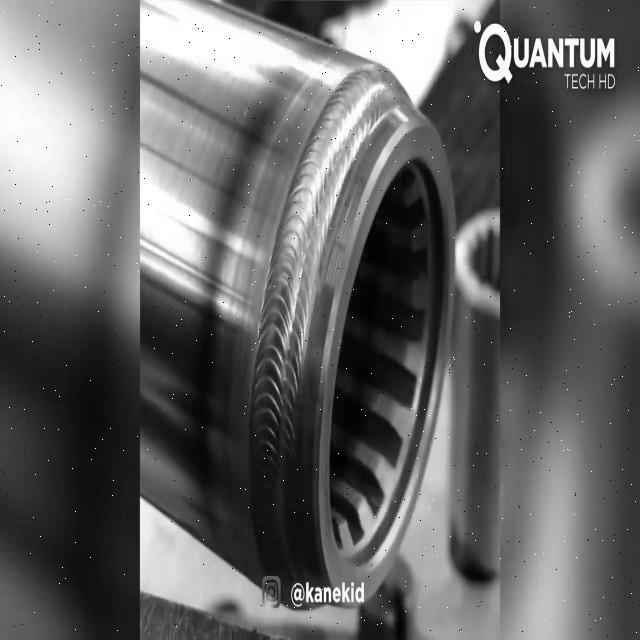Good Welding: (140, 0, 455, 607)
